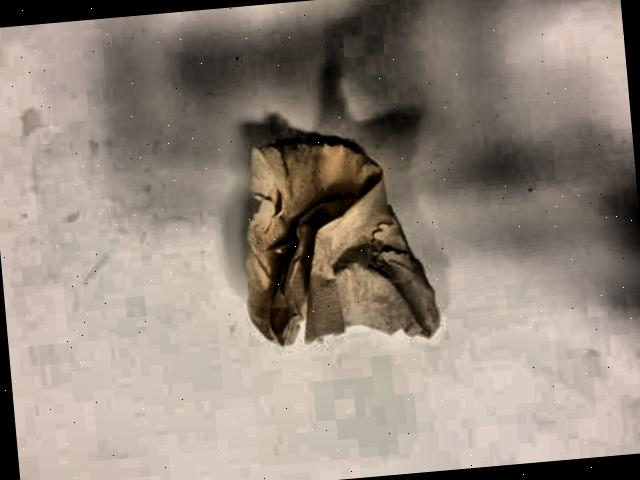Paper: (176, 76, 460, 379)
